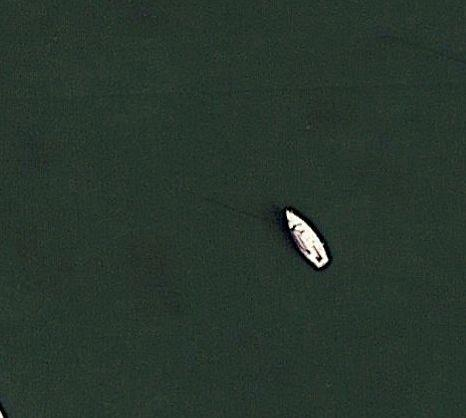Ships: (273, 204, 339, 280)
